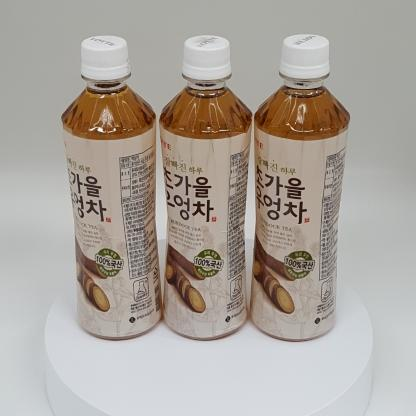----------500ML: (250, 34, 351, 342), (61, 36, 162, 340), (159, 35, 253, 341)
